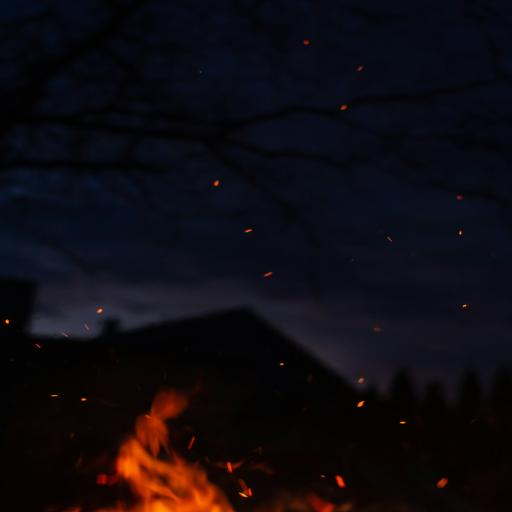fire: (0, 328, 435, 512)
